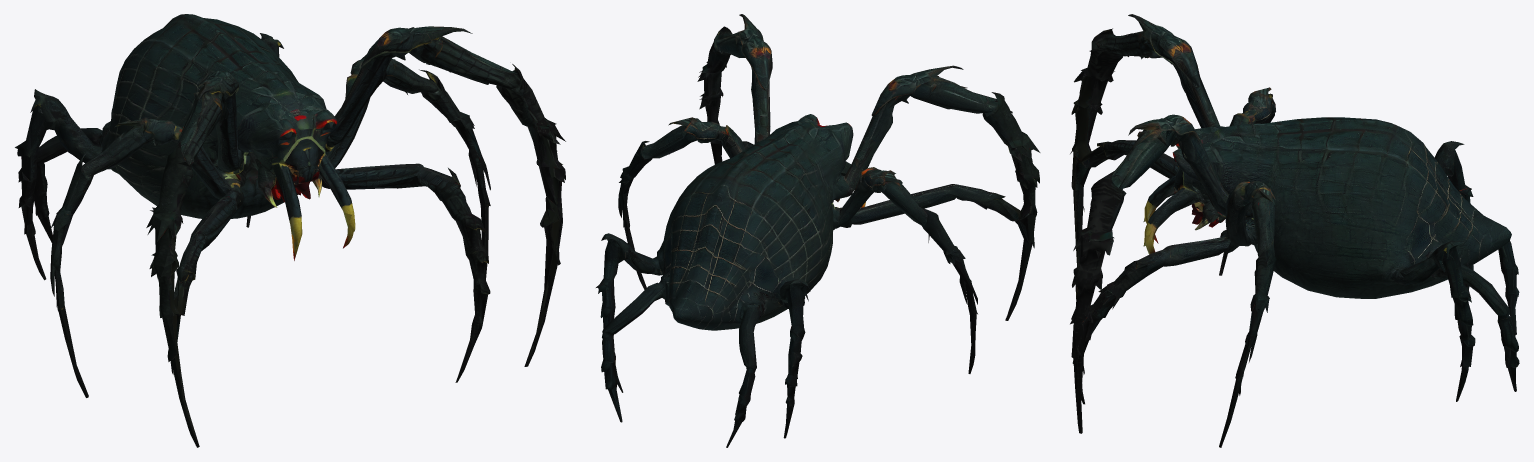
Rendered from Spider_Full.fbx.
3 renders of one model, left to right at view 1: azimuth 30°, elevation 25°; view 2: azimuth 150°, elevation 25°; view 3: azimuth 270°, elevation 25°, orthographic. The views are drawn at different scales.
Visible parts, largest first — view 1: Mesh_0; view 2: Mesh_0; view 3: Mesh_0.
Part boxes in pixels (<box>): Mesh_0: <box>15,14,565,447</box>; Mesh_0: <box>596,14,1040,447</box>; Mesh_0: <box>1070,14,1519,447</box>.
Bounding box in the file's own units: 190 × 136 × 189.
1 material, 1 textured.
